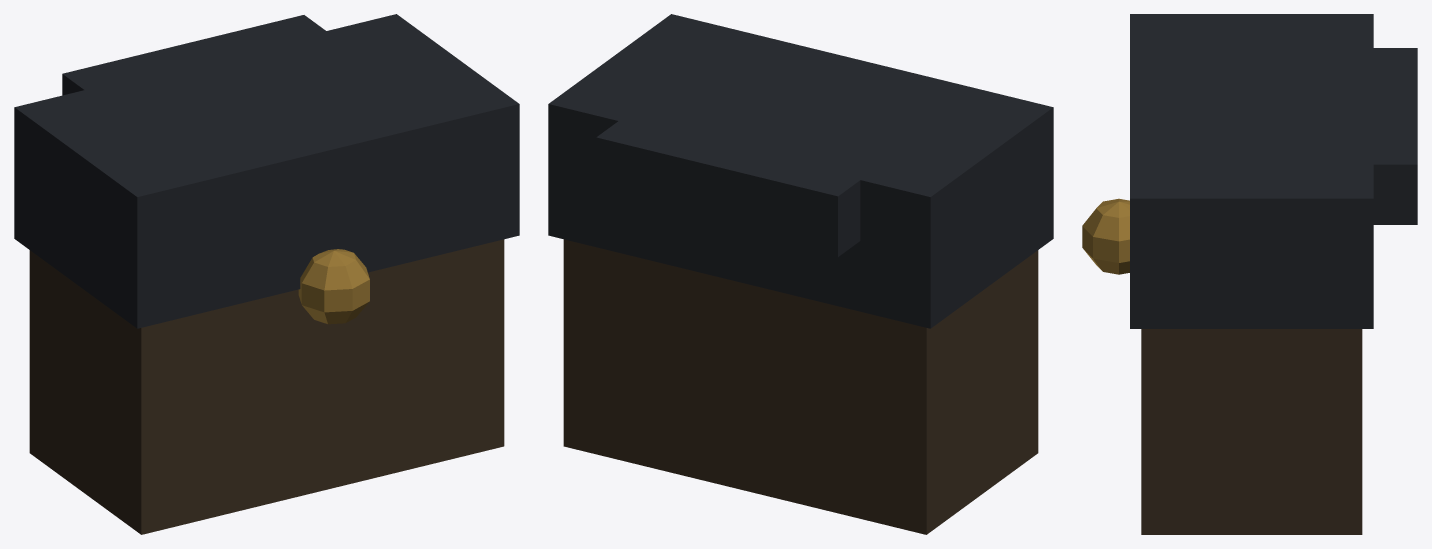
File: ammo-pouch.lod.glb
The picture shows the model from 3 angles, left to right: view 1: azimuth 30°, elevation 25°; view 2: azimuth 150°, elevation 25°; view 3: azimuth 270°, elevation 25°; orthographic projection.
Visible parts, largest first — view 1: m; view 2: m; view 3: m.
Part boxes in pixels (x1,y1,x2,y2): m: (14, 14, 519, 534); m: (548, 14, 1053, 534); m: (1082, 14, 1417, 534).
Size of the model in its own units: 0.075 by 0.0646 by 0.0576.
